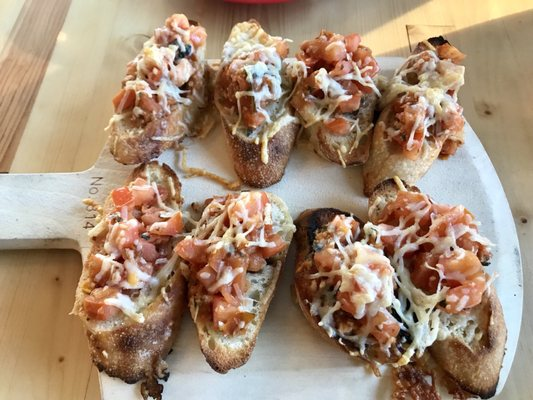salad: (290, 177, 509, 400), (173, 188, 297, 375), (108, 14, 213, 166), (213, 22, 303, 188), (286, 29, 382, 166)
